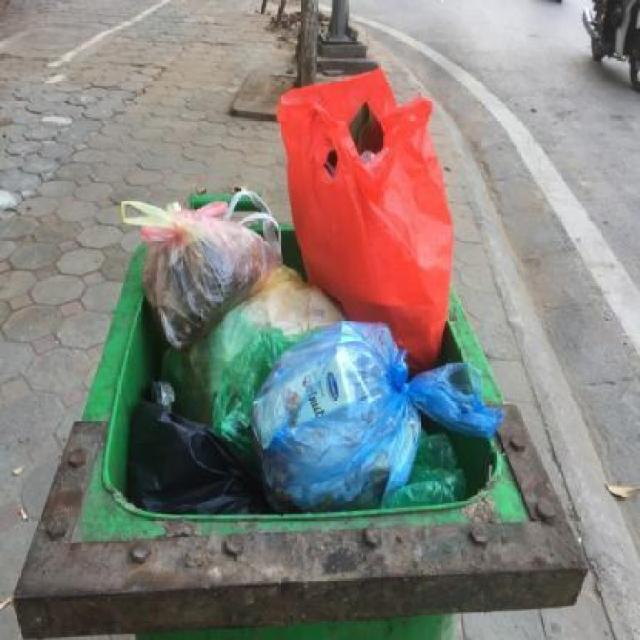plastic bag: (39, 150, 566, 578), (104, 177, 344, 451), (283, 58, 459, 360), (234, 316, 495, 510)
